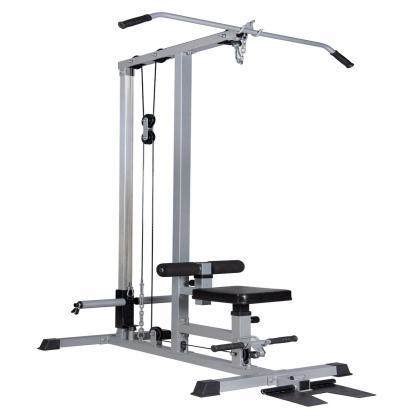Lat Pull Down: (14, 3, 388, 409)
